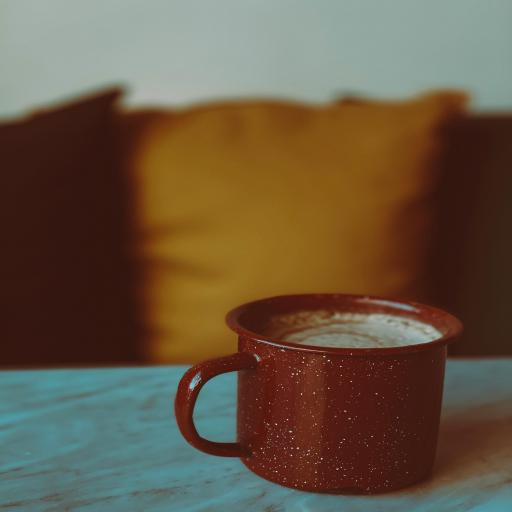phone: (174, 293, 464, 496)
